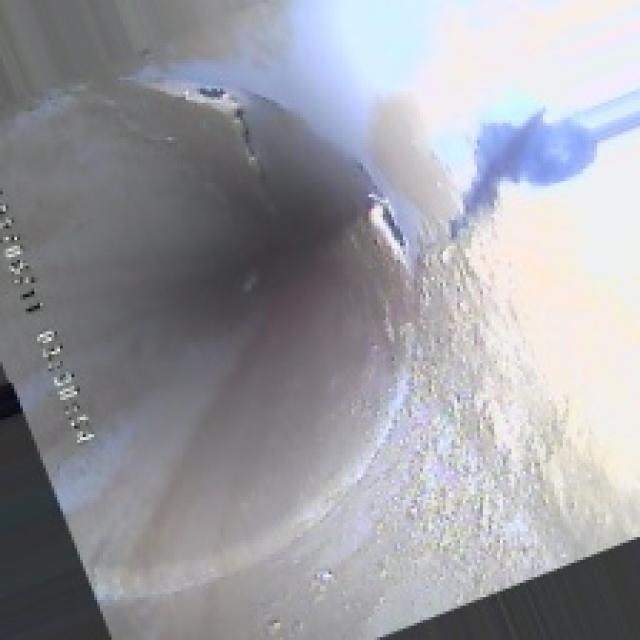pipe_surface_damage: (106, 63, 423, 317)
